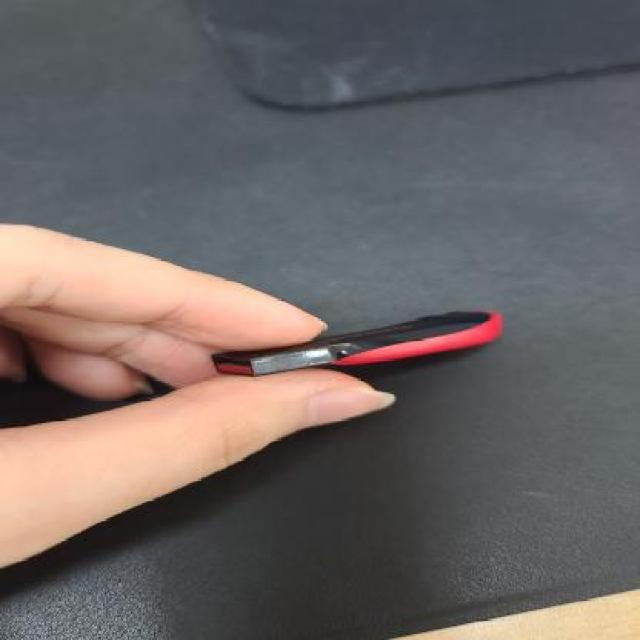Flashdisk: (210, 309, 504, 376)
